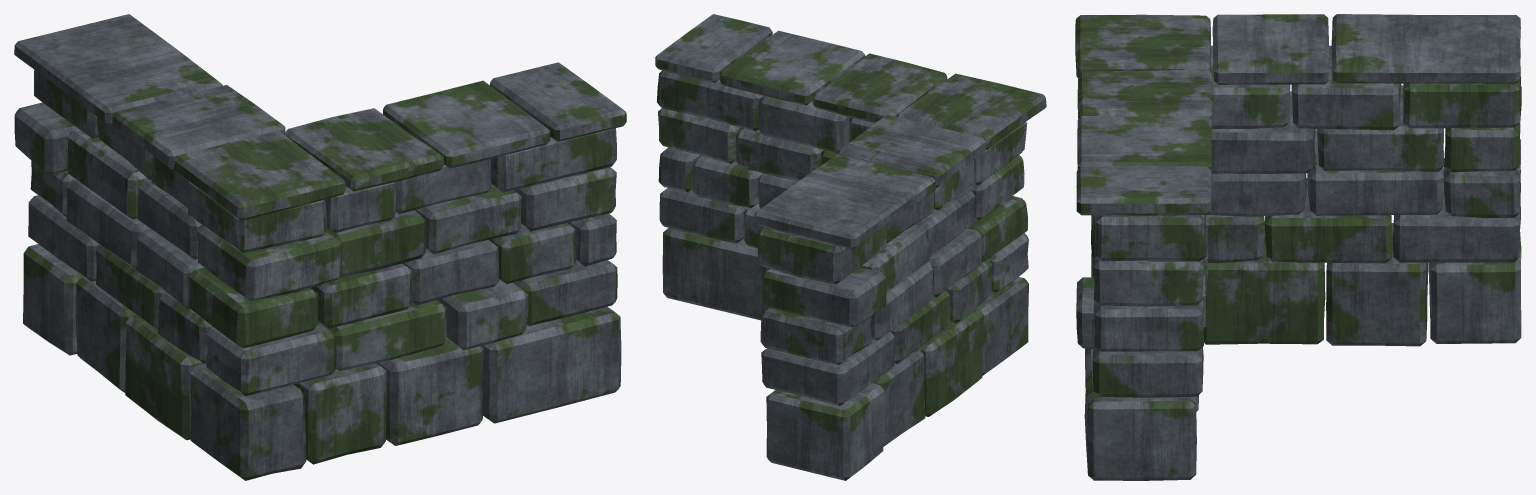
Rendered from Bell_Retain_Wall_Corner.glb.
The picture shows the model from 3 angles, left to right: view 1: azimuth 30°, elevation 25°; view 2: azimuth 150°, elevation 25°; view 3: azimuth 270°, elevation 25°; orthographic projection. The views are drawn at different scales.
Visible parts, largest first — view 1: Bell_Retain_Wall_Corner__Stone; view 2: Bell_Retain_Wall_Corner__Stone; view 3: Bell_Retain_Wall_Corner__Stone.
Part boxes in pixels (<box>): Bell_Retain_Wall_Corner__Stone: <box>14,14,626,480</box>; Bell_Retain_Wall_Corner__Stone: <box>655,14,1046,480</box>; Bell_Retain_Wall_Corner__Stone: <box>1075,14,1521,480</box>.
Bounding box in the file's own units: 10.69 × 7.51 × 10.65.
1 material, 1 textured.
